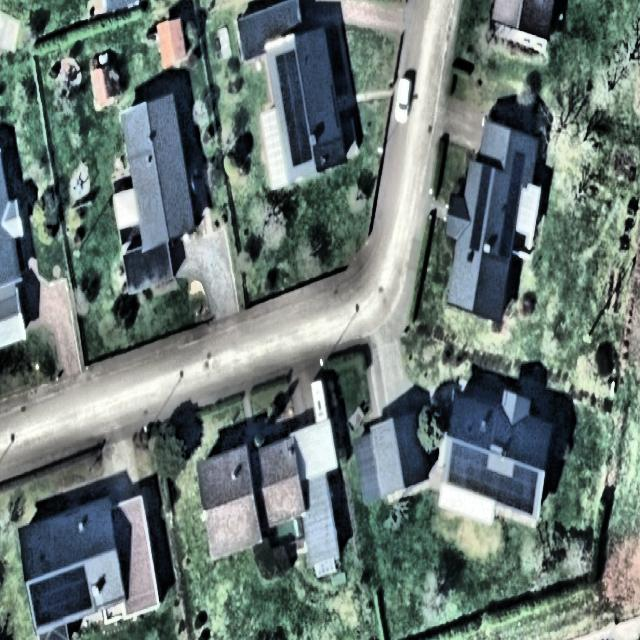roof_pv: (274, 48, 313, 172), (31, 562, 92, 629), (449, 444, 490, 494), (512, 464, 542, 514), (484, 468, 516, 512)
